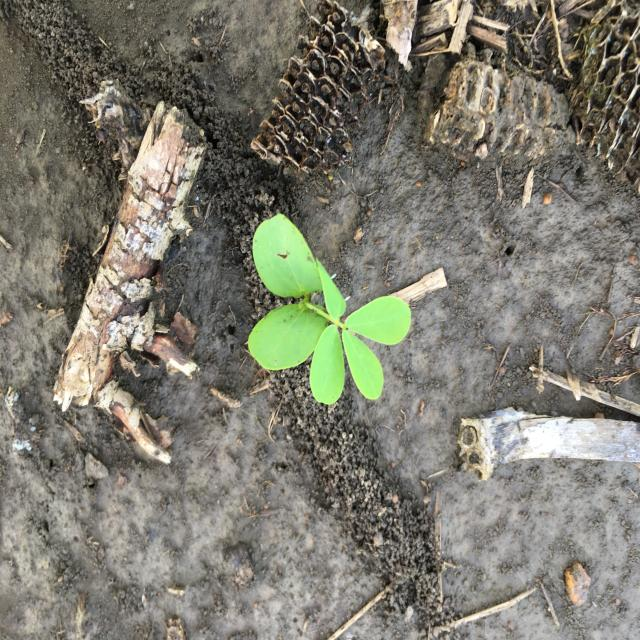Sicklepod: (246, 211, 414, 408)
